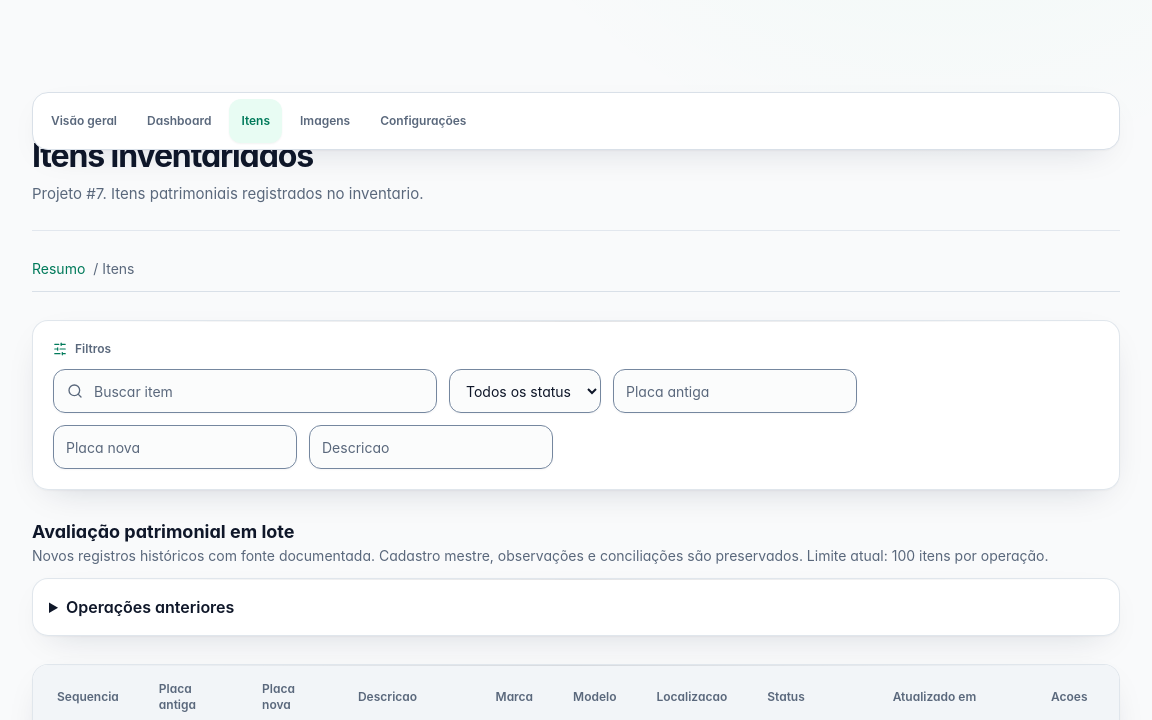
Batch valuation integrated item workspace › hides selection and writing from read-only users while retaining project navigation
What coordinates should you click on to do the following:
click the link "Visão geral"
I would click on:
 (84, 120)
Its box is [51,113,117,128].
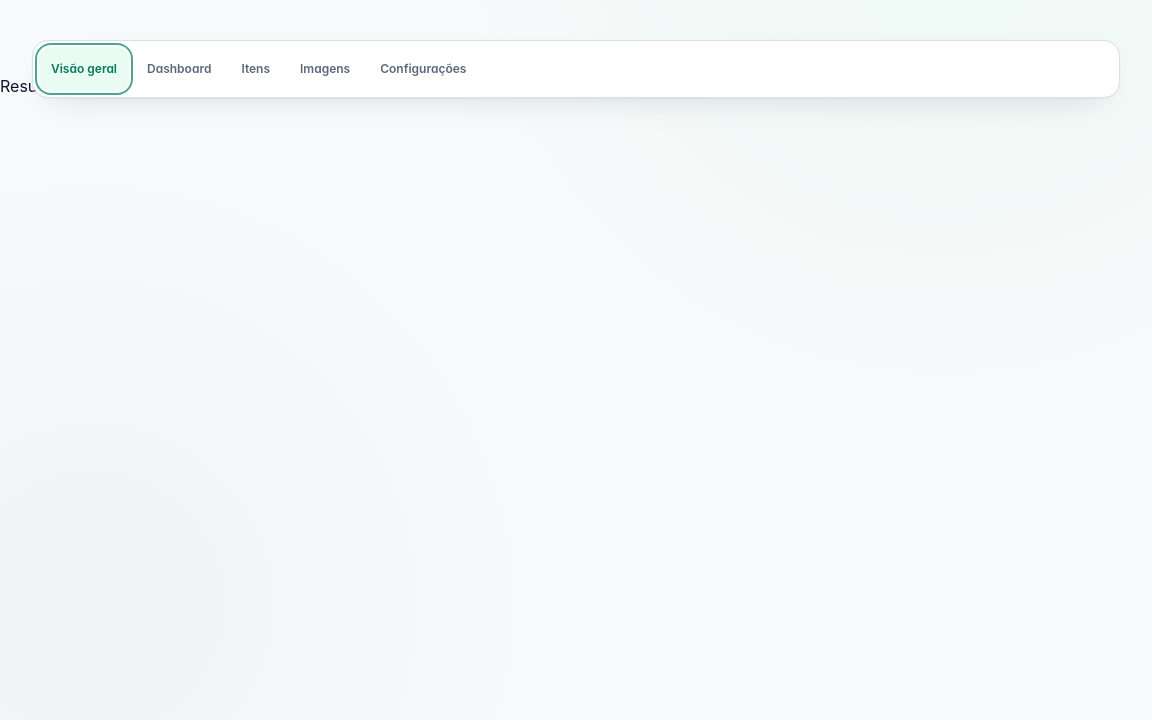
Expected: the navigation bar named "Abas do projeto" is shown, [32,40,1120,98]
Result: the heading "Resumo do mesmo projeto" is shown at [0,76,202,96]
